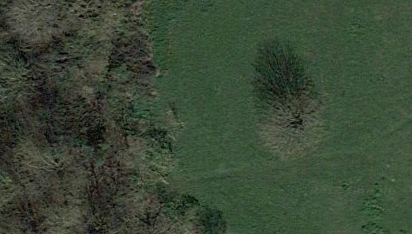tree: (247, 86, 333, 163)
